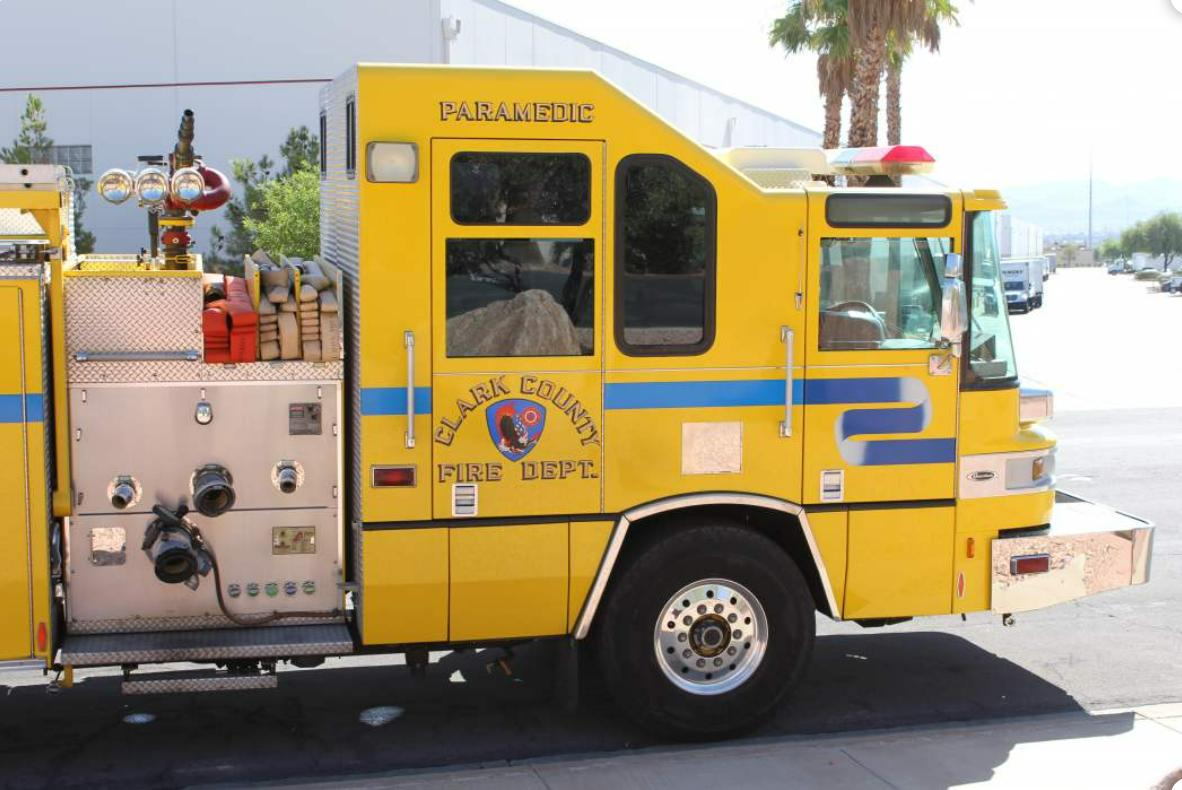firetruck_off: (0, 69, 1158, 747)
